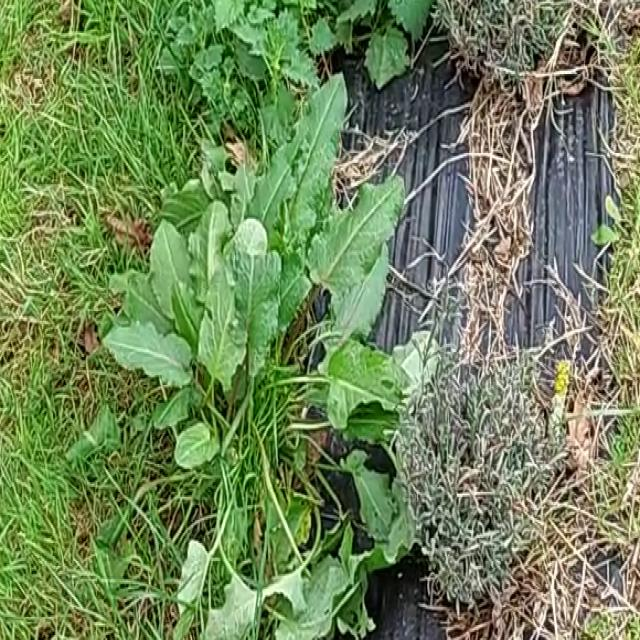organic waste: (85, 77, 431, 612)
